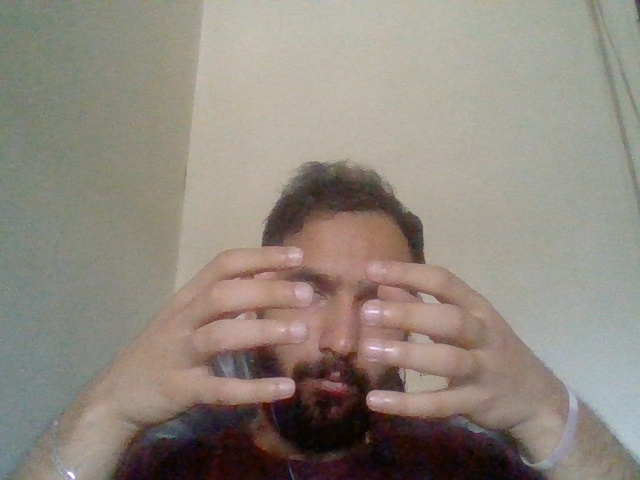Story: (170, 231, 500, 477)
